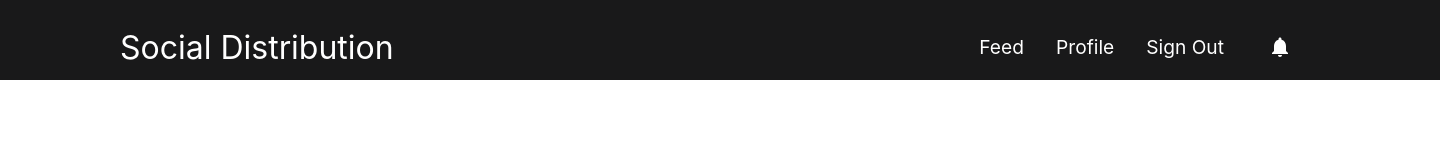
Test: Navbar component › clicking Sign Out clears user from localStorage and shows Sign In link
Step 1. Click the link "Sign Out" → (1185, 47), box [1146, 35, 1224, 59]
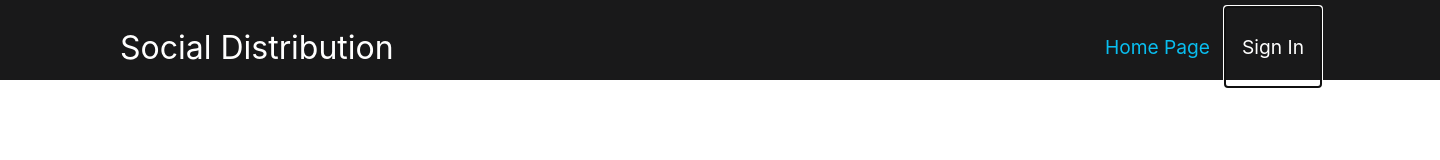
Check: the link "Sign In" is shown, box [1242, 35, 1304, 59]
